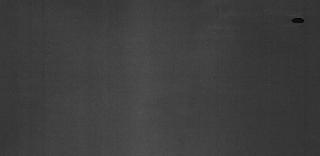punching hole: (291, 15, 307, 24)
